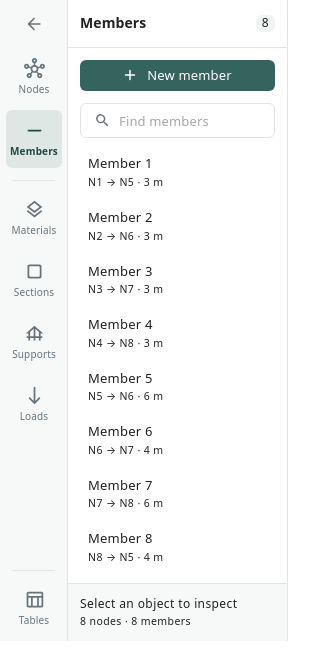
Test: searches object details, retains category filters and restores focus after clearing
Type "N1 → N5" into the field labelled "Find members" at (197, 121), box [119,103,275,138]
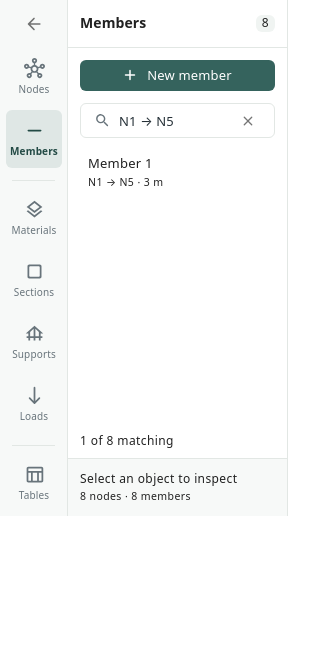
Expected: the button "Member 1 N1 → N5 · 3 m" is shown, [88,154,164,189]
Expected: the button "Member 2" is gone
Click the button "Nodes" at (34, 77), box [6,48,62,106]
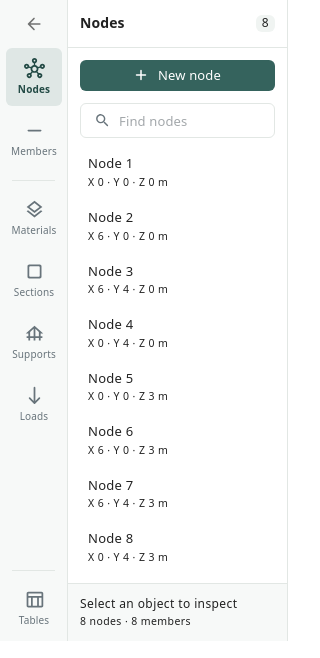
Click the button "Members" at (34, 139), box [6,110,62,168]
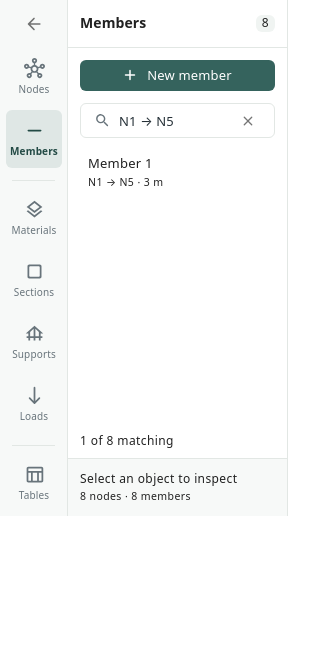
Replace the text in the field named "Find members" with "missing" at (173, 121), box [119,103,227,138]
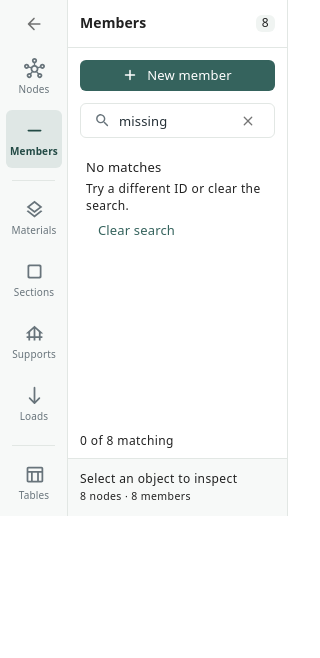
Expected: the text "No matches" is shown, [86,158,162,176]
Click the button named "Clear entity search" at (248, 121), box [235,108,261,134]
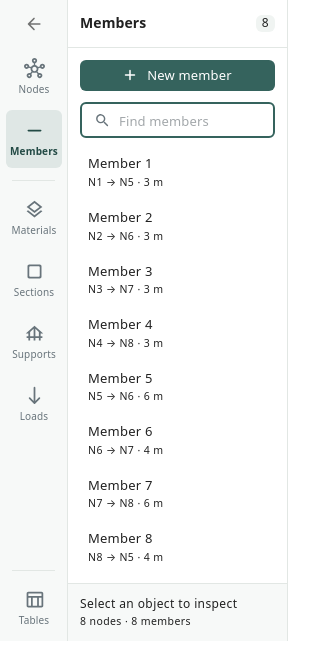
Expected: the button "Member 8 N8 → N5 · 4 m" is shown, [88,529,164,564]
